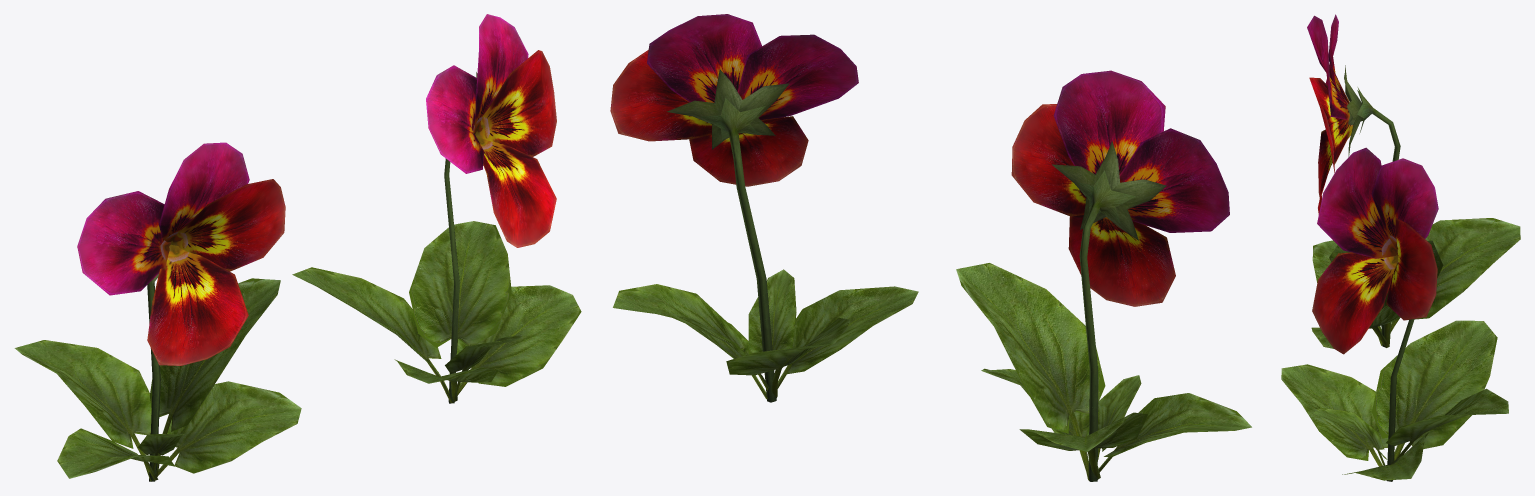
The model's file is pansy.FBX.
The picture shows the model from 3 angles, left to right: view 1: azimuth 30°, elevation 25°; view 2: azimuth 150°, elevation 25°; view 3: azimuth 270°, elevation 25°; orthographic projection. The views are drawn at different scales.
Parts seen in each view (by area): view 1: pansy, pansy001; view 2: pansy, pansy001; view 3: pansy001, pansy.
Boxes of the visible parts, box(x1,y1,x2,y2) form: pansy: box(14, 142, 301, 481); pansy001: box(292, 14, 581, 403); pansy: box(956, 70, 1251, 481); pansy001: box(610, 14, 918, 402); pansy001: box(1281, 147, 1508, 481); pansy: box(1307, 14, 1520, 348).
Bounding box in the file's own units: 94.97 × 60.31 × 38.25.
